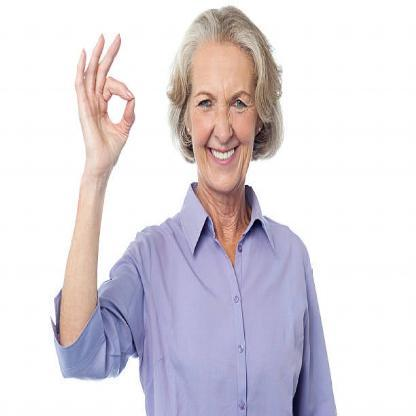ok: (72, 27, 138, 176)
